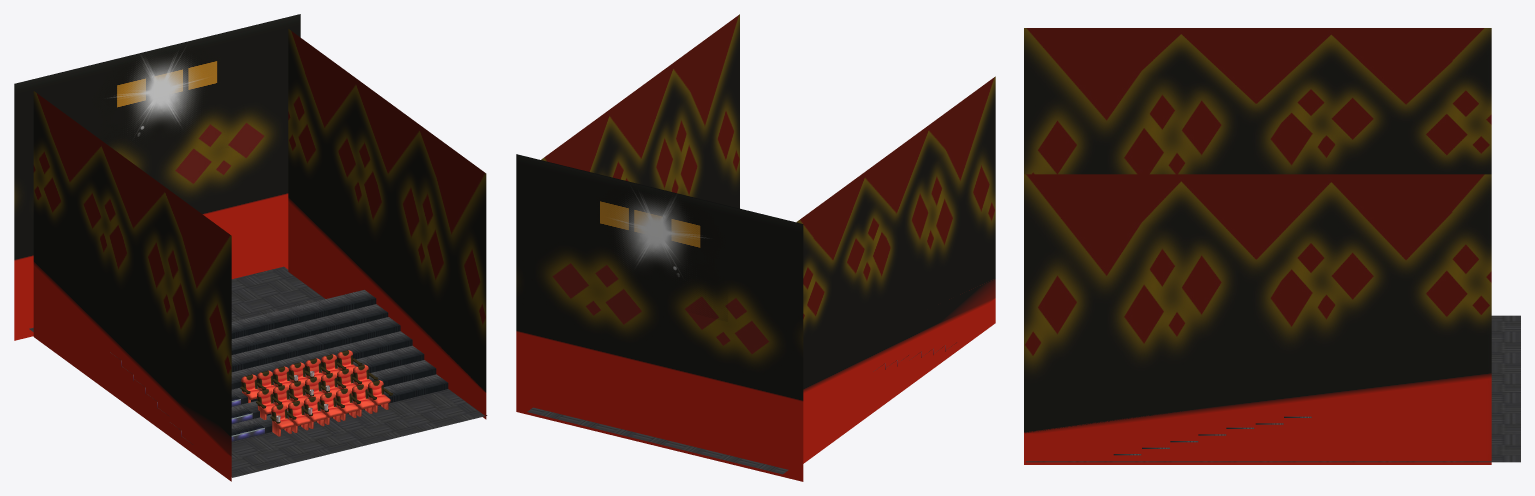
The model's file is Theater2.fbx.
3 renders of one model, left to right at view 1: azimuth 30°, elevation 25°; view 2: azimuth 150°, elevation 25°; view 3: azimuth 270°, elevation 25°, orthographic. The views are drawn at different scales.
Parts seen in each view (by area): view 1: Plane.007; view 2: Plane.007; view 3: Plane.007.
Boxes of the visible parts, box(x1,y1,x2,y2) form: Plane.007: box(14, 14, 487, 481); Plane.007: box(516, 14, 995, 481); Plane.007: box(1024, 28, 1520, 464).
Bounding box in the file's own units: 12356 × 10606 × 15751.
Materials: 1 (1 with a texture image).
